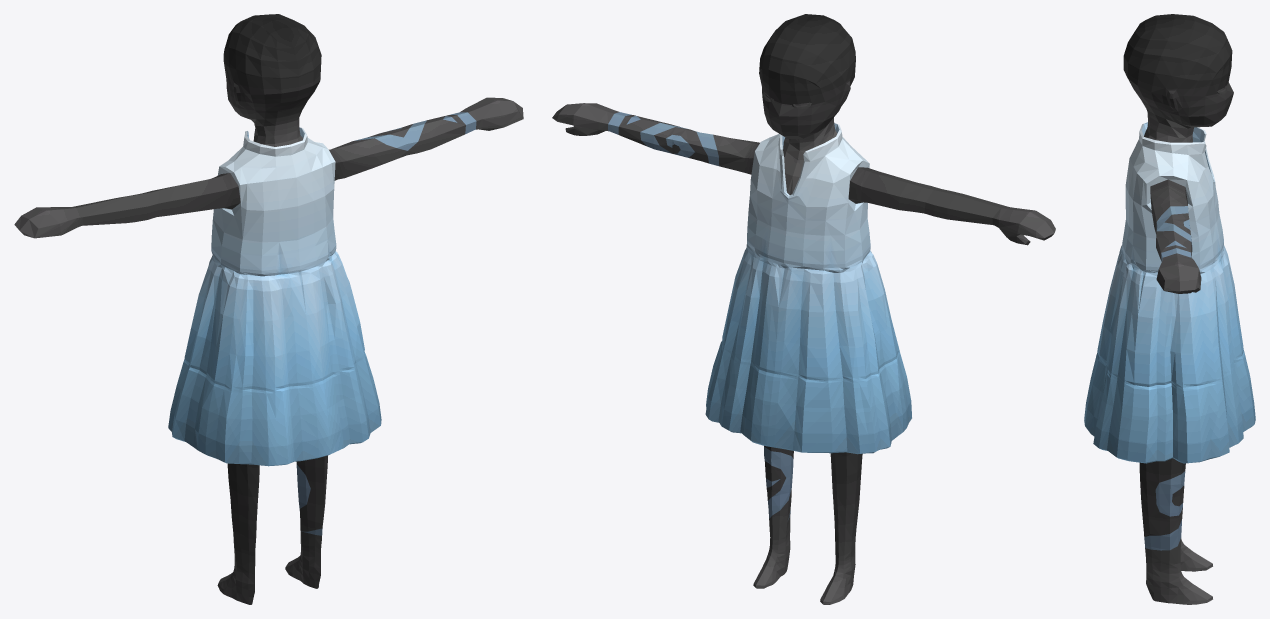
Rendered from CharSkyKid_Body_NatureFlowyDress.glb.
3 views of the same model, side by side, from view 1: azimuth 30°, elevation 25°; view 2: azimuth 150°, elevation 25°; view 3: azimuth 270°, elevation 25° (orthographic).
Parts seen in each view (by area): view 1: CharSkyKid_Body_NatureFlowyDress; view 2: CharSkyKid_Body_NatureFlowyDress; view 3: CharSkyKid_Body_NatureFlowyDress.
Part boxes in pixels (left/top/right/bottom): CharSkyKid_Body_NatureFlowyDress: left=14, top=14, right=523, bottom=604; CharSkyKid_Body_NatureFlowyDress: left=552, top=14, right=1055, bottom=604; CharSkyKid_Body_NatureFlowyDress: left=1084, top=14, right=1255, bottom=604.
Size of the model in its own units: 13.83 by 14.94 by 4.11.
1 material, 1 textured.
